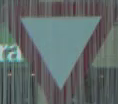Give way: (6, 1, 112, 96)
